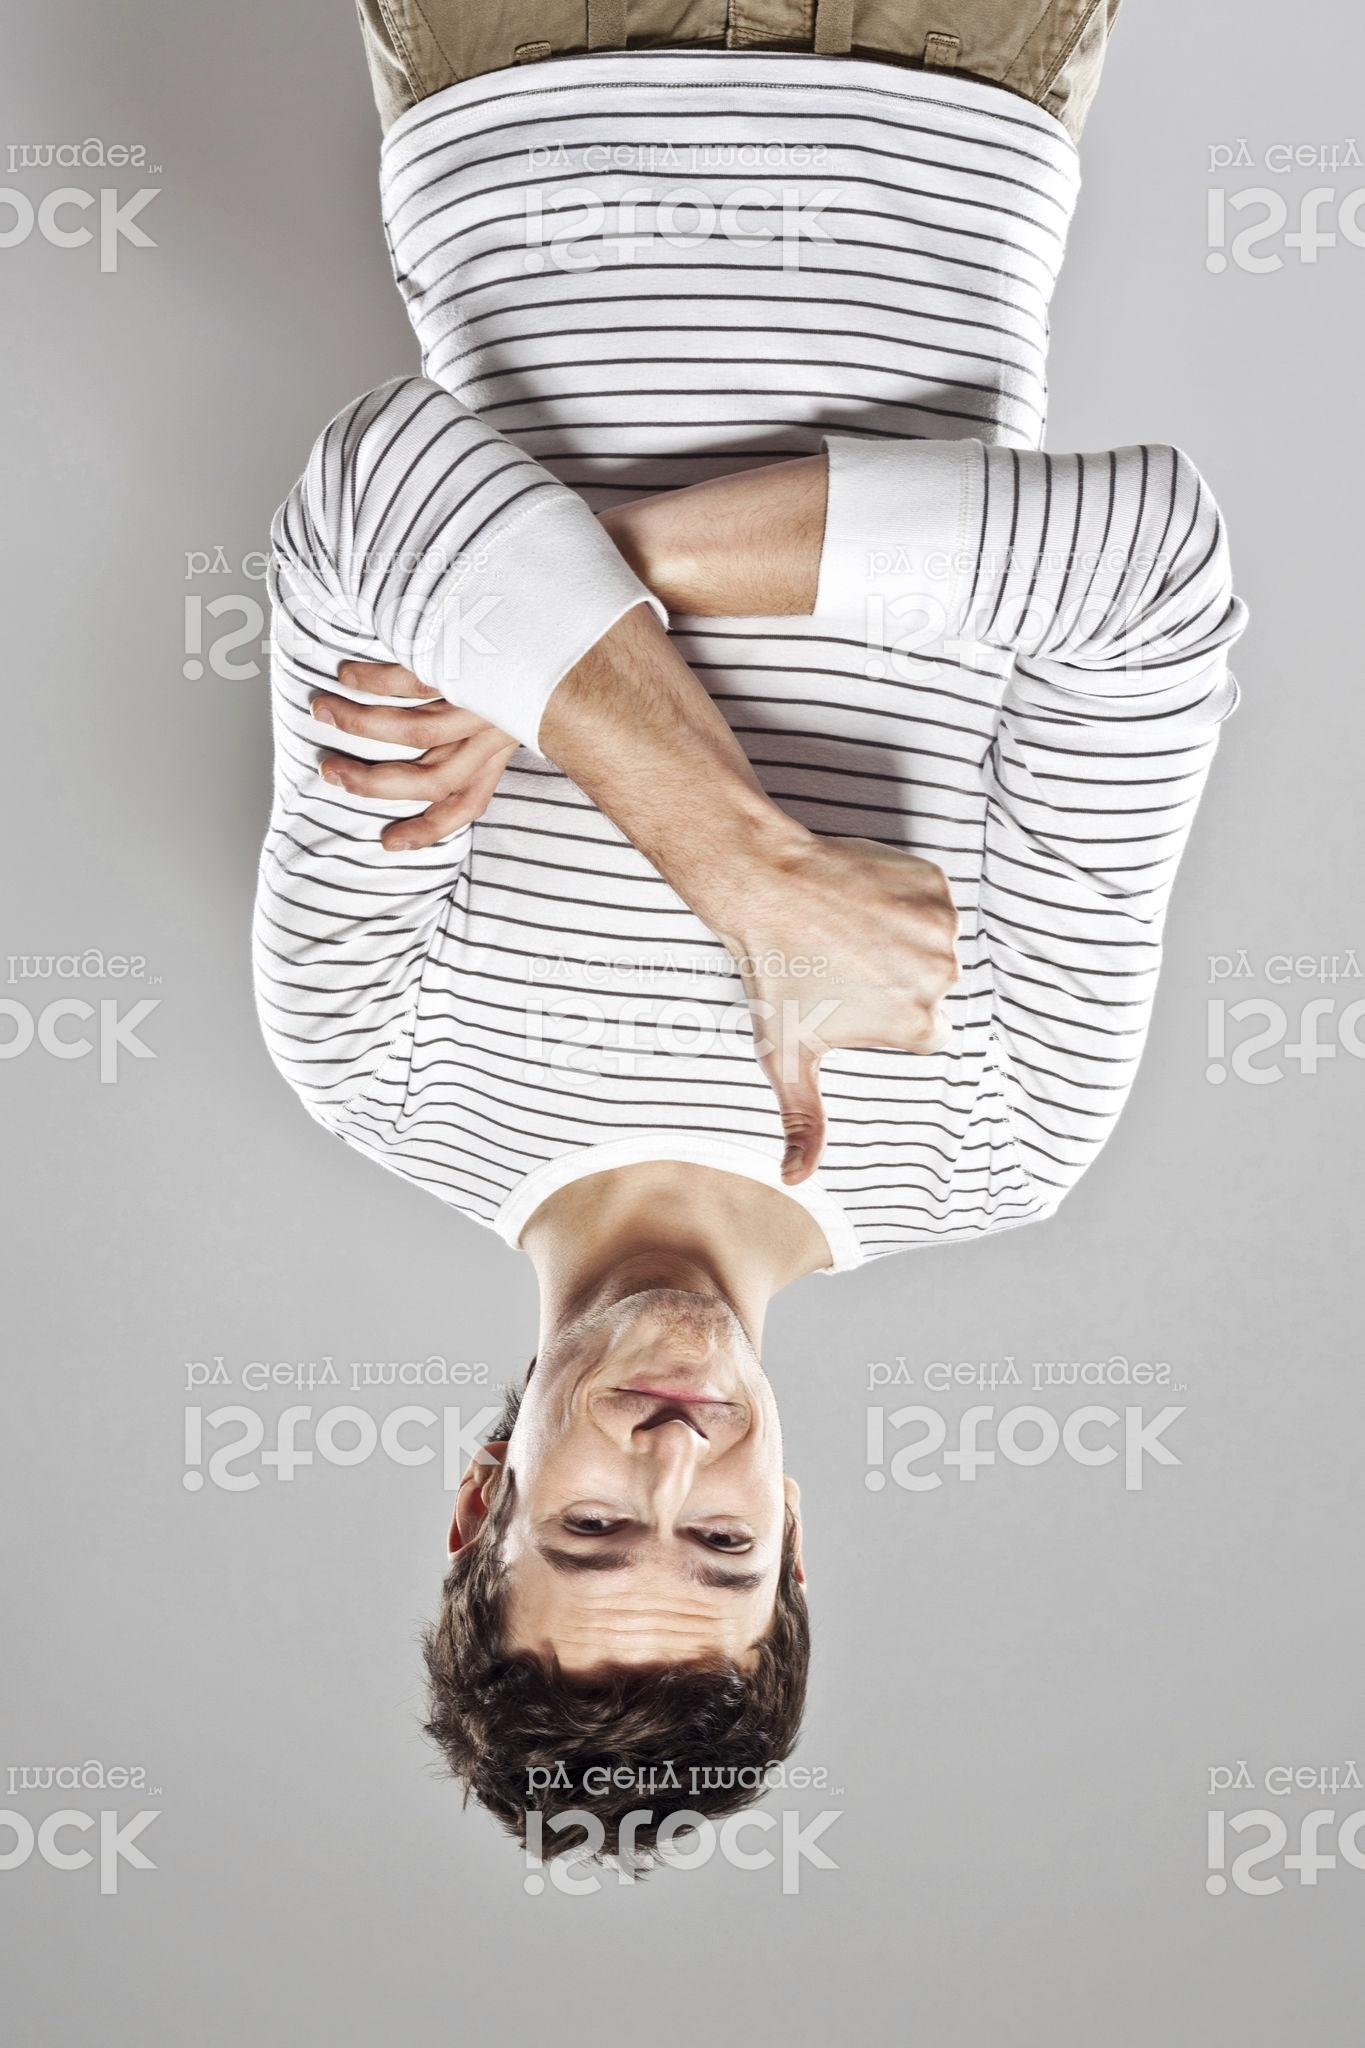thumbsdown: (774, 854, 964, 1186)
